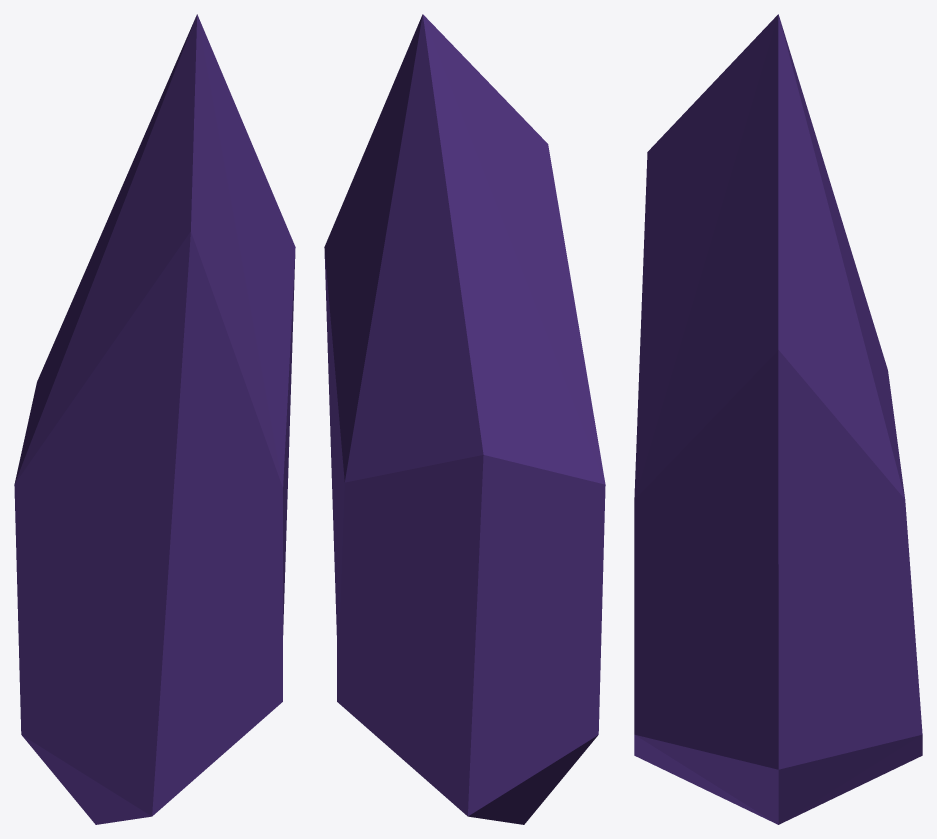
File: Crystal_Pointu_2.FBX
3 renders of one model, left to right at view 1: azimuth 30°, elevation 25°; view 2: azimuth 150°, elevation 25°; view 3: azimuth 270°, elevation 25°, orthographic. The views are drawn at different scales.
Visible parts, largest first — view 1: Spindle003; view 2: Spindle003; view 3: Spindle003.
Part boxes in pixels (bbox=[...]): Spindle003: bbox=[14, 14, 295, 824]; Spindle003: bbox=[324, 14, 605, 824]; Spindle003: bbox=[634, 14, 922, 824].
Size of the model in its own units: 46.8 by 125 by 37.75.
